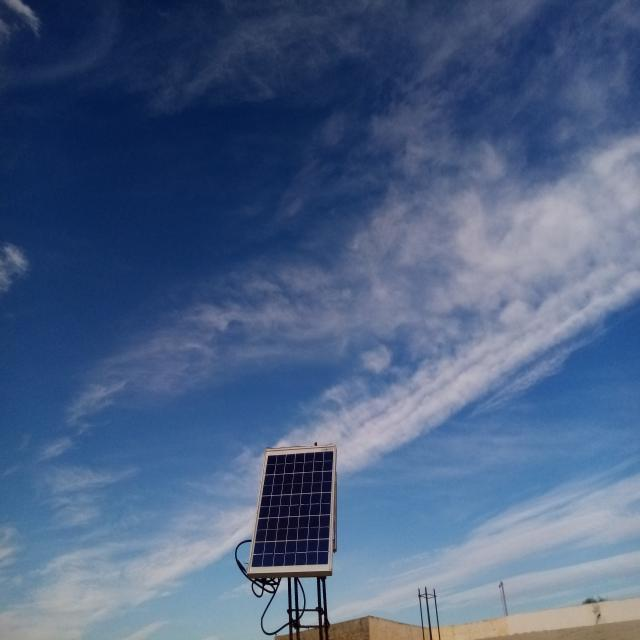Normal Solar Panel: (247, 445, 335, 574)
